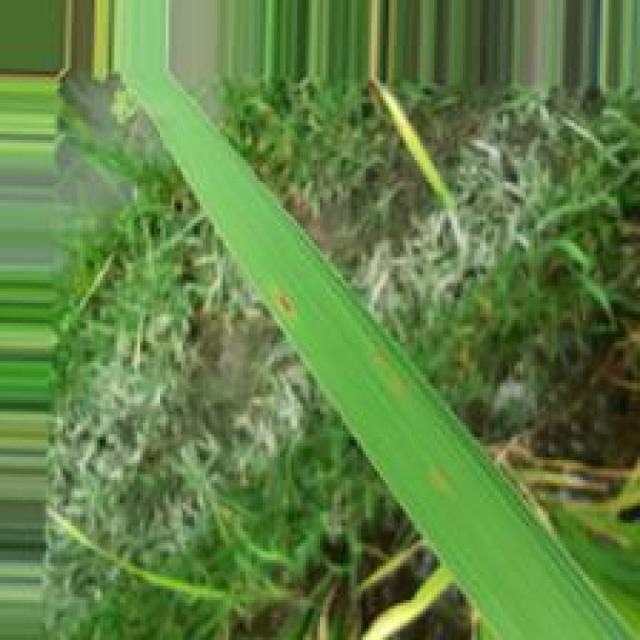HealthyLeaf: (425, 485, 635, 640), (194, 155, 362, 317), (294, 329, 423, 490)
